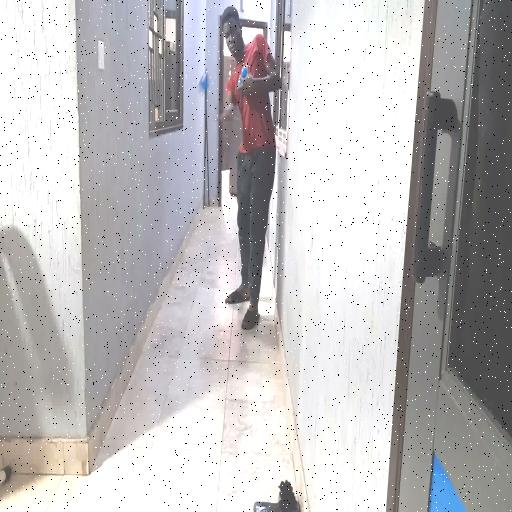plastic-ball: (197, 68, 210, 96)
